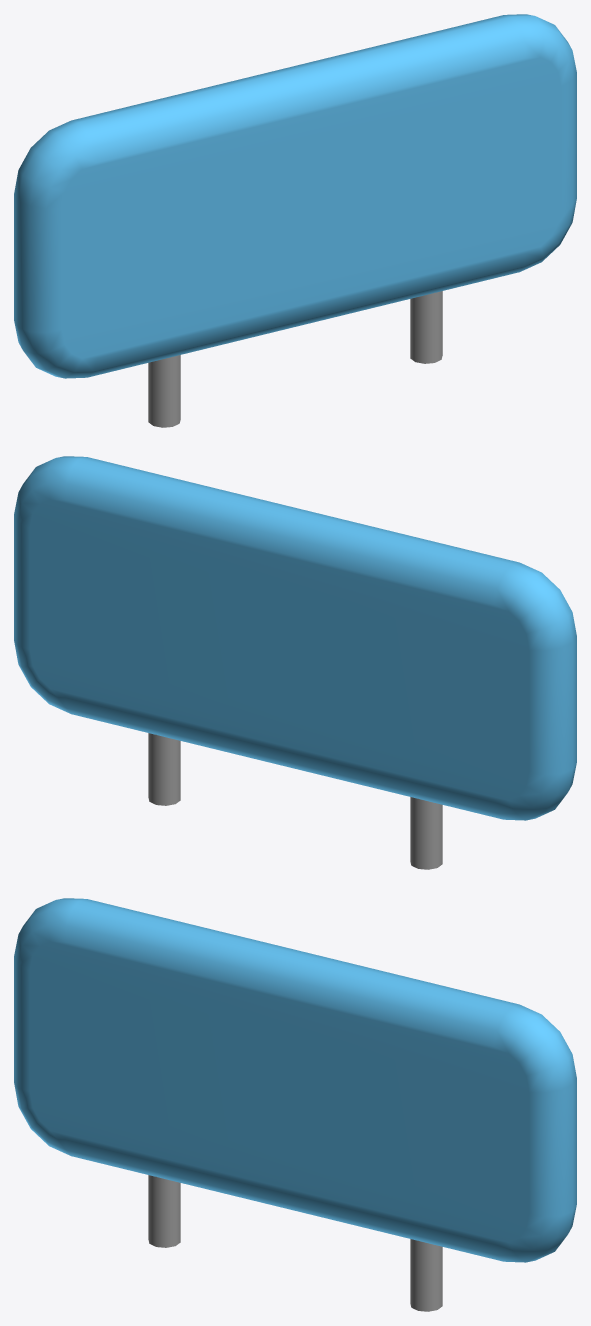
File: Poster_M_01.fbx
The picture shows the model from 3 angles, top to bottom: view 1: azimuth 30°, elevation 25°; view 2: azimuth 150°, elevation 25°; view 3: azimuth 330°, elevation 25°; orthographic projection.
Parts seen in each view (by area): view 1: Poster_M_01; view 2: Poster_M_01; view 3: Poster_M_01.
Part boxes in pixels (<box>): Poster_M_01: <box>14,14,576,427</box>; Poster_M_01: <box>14,456,576,869</box>; Poster_M_01: <box>14,898,576,1311</box>.
Bounding box in the file's own units: 258 × 142 × 25.7.
2 materials, 1 textured.
